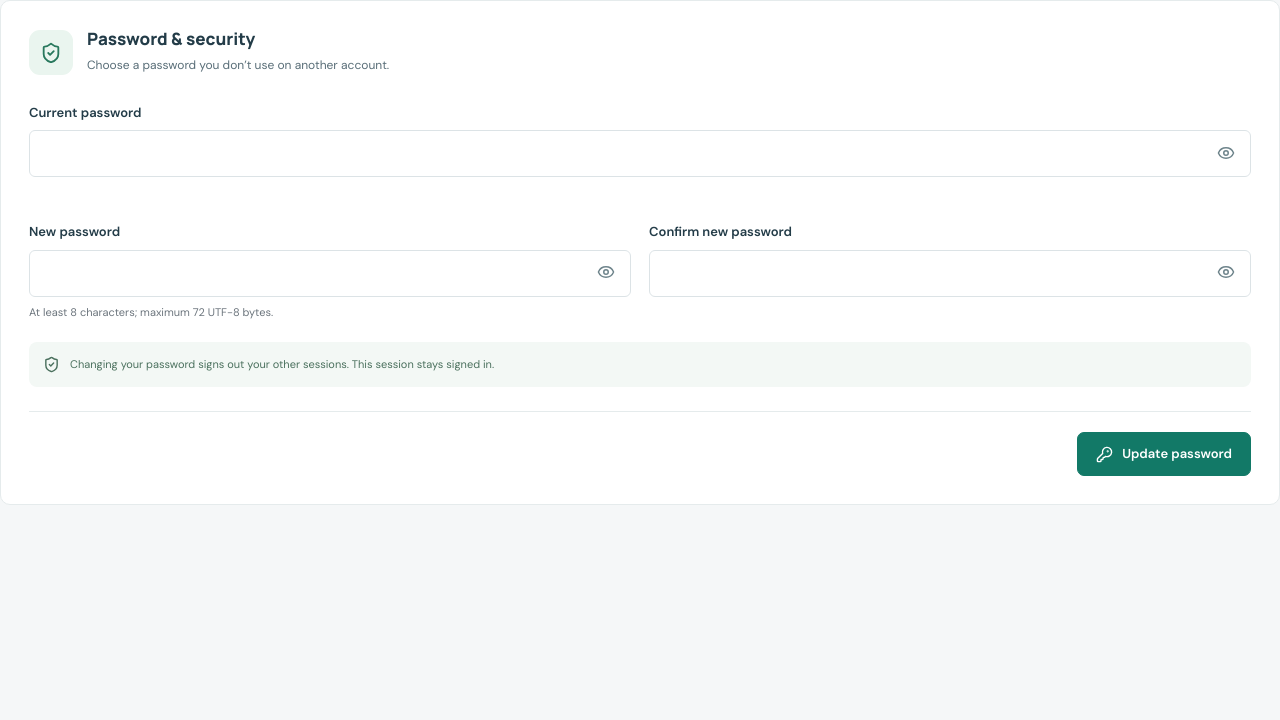
Test: Personal details and account security forms › requires password confirmation and never sends mismatched passwords
Type "current-password" into the password field labelled "Current password" at (640, 154), box [29,130,1251,177]
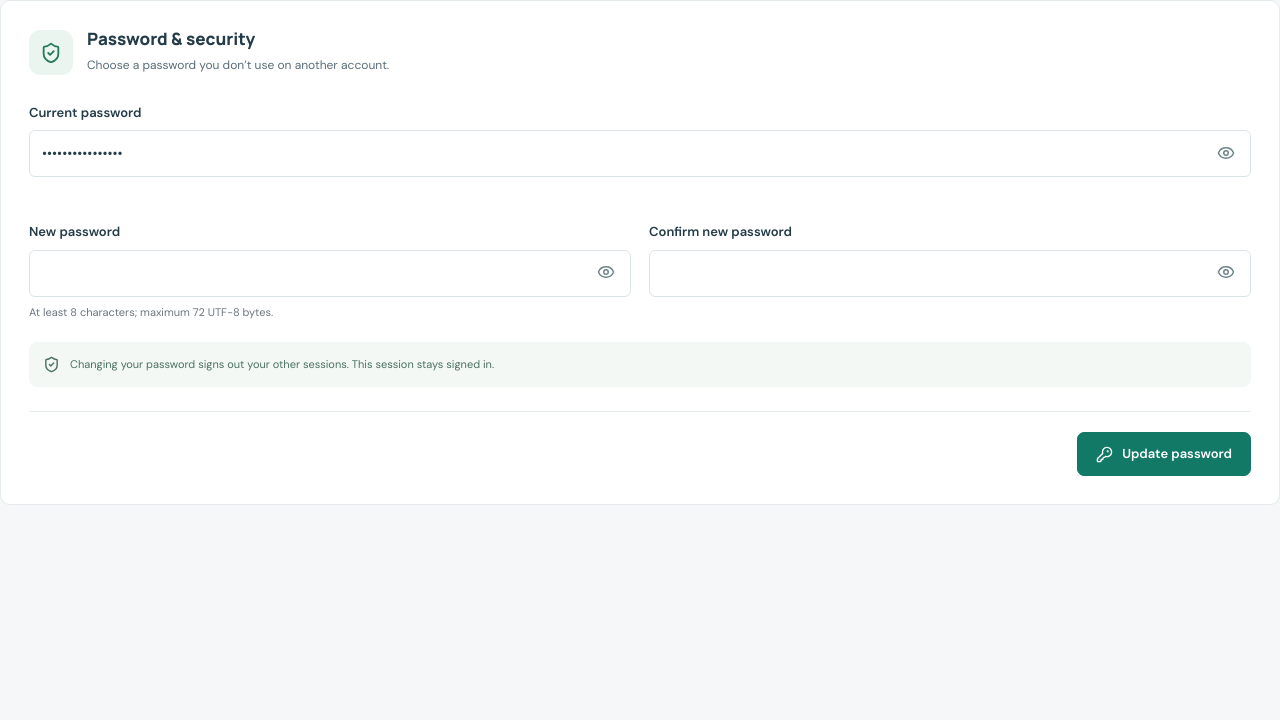
Type "new-password-123" into the password field labelled "New password" at (330, 273), box [29,250,631,297]
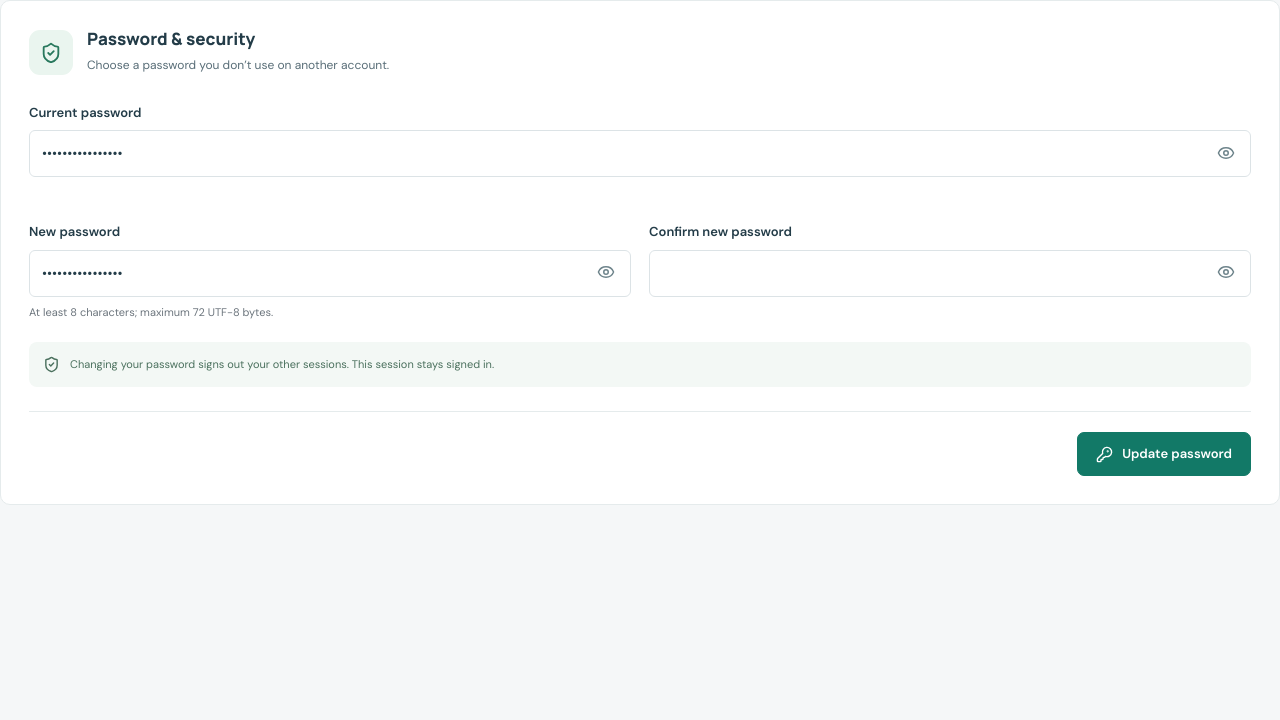
Type "different" into the password field labelled "Confirm new password" at (950, 273), box [649,250,1251,297]
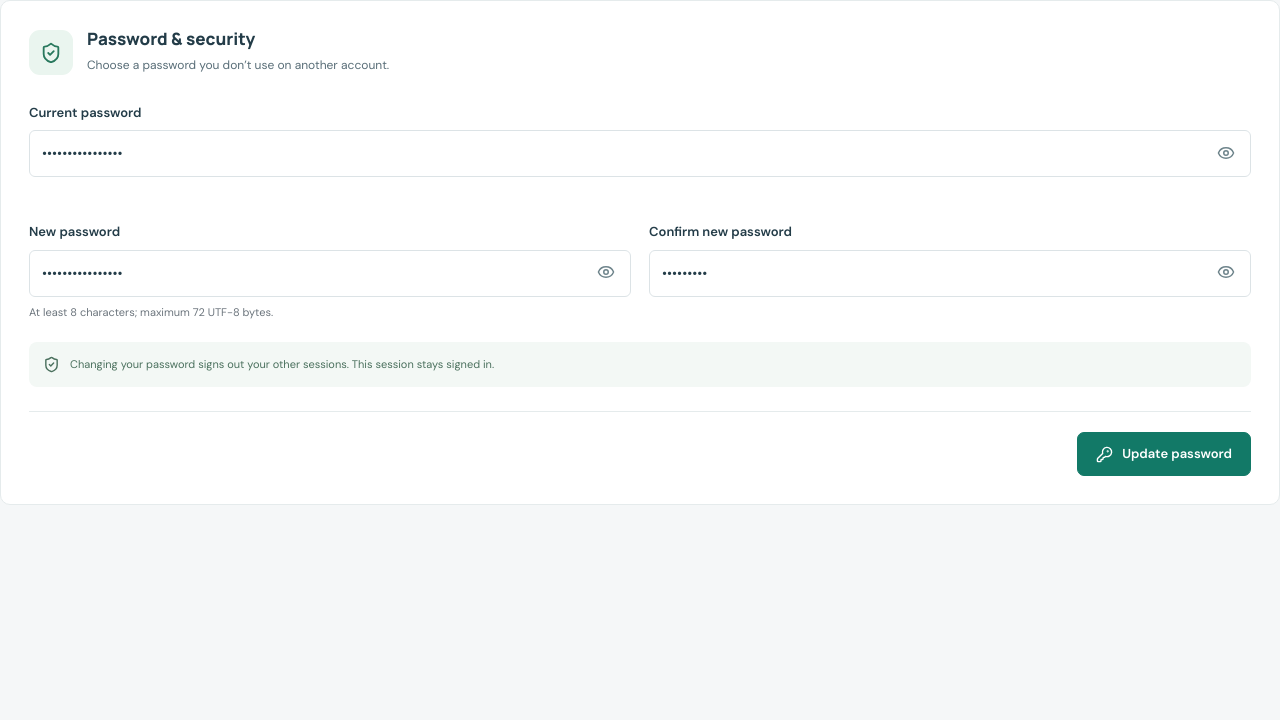
Click the button "Update password" at (1164, 454), box [1077,432,1251,476]
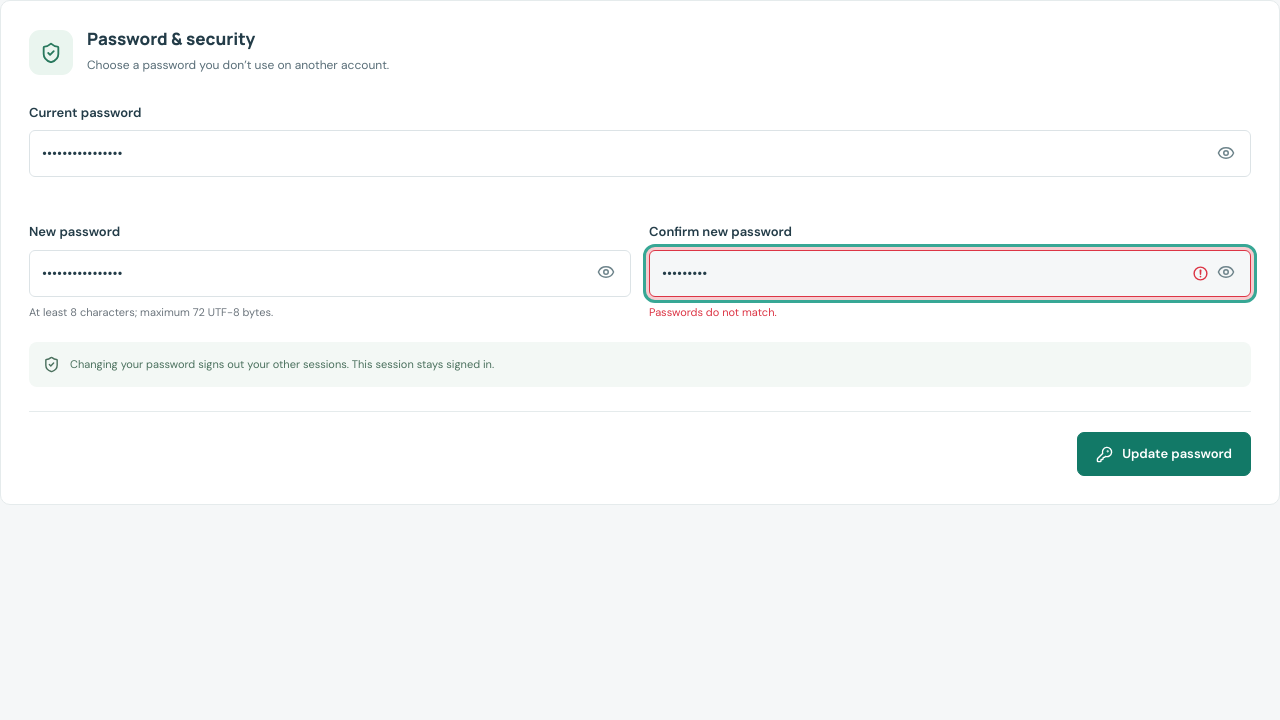
expect the text "Passwords do not match." is shown: met, box [649,305,777,319]
